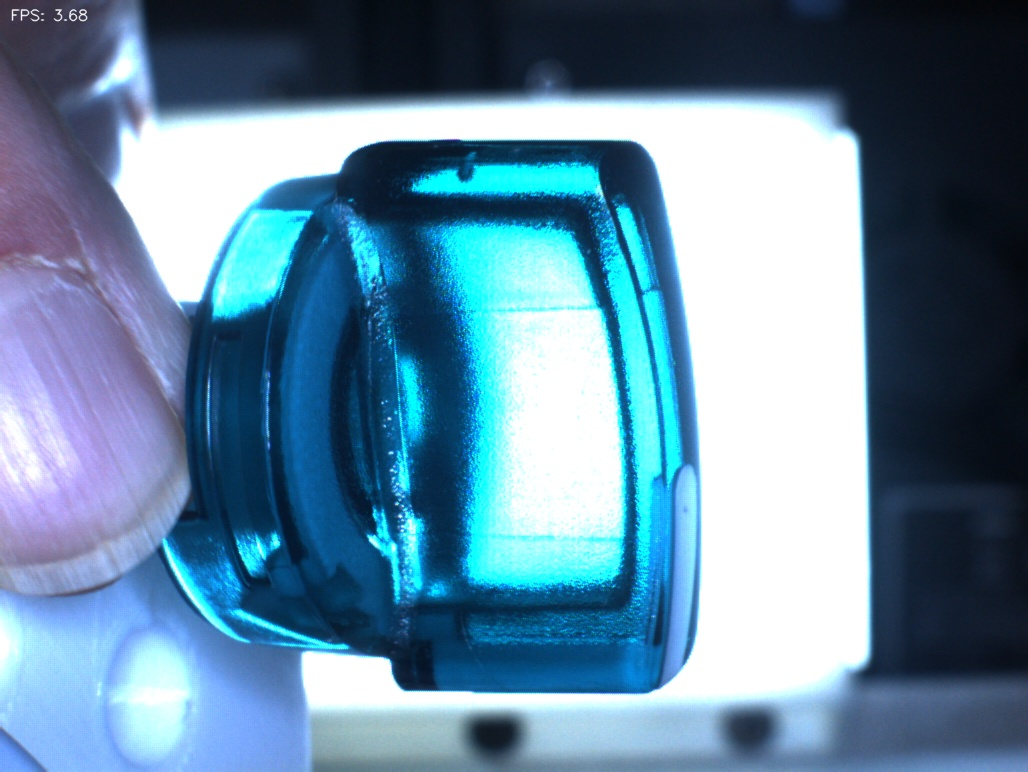Bulle: (422, 118, 515, 221)
